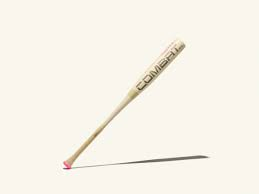baseball bat: (64, 37, 187, 169)
